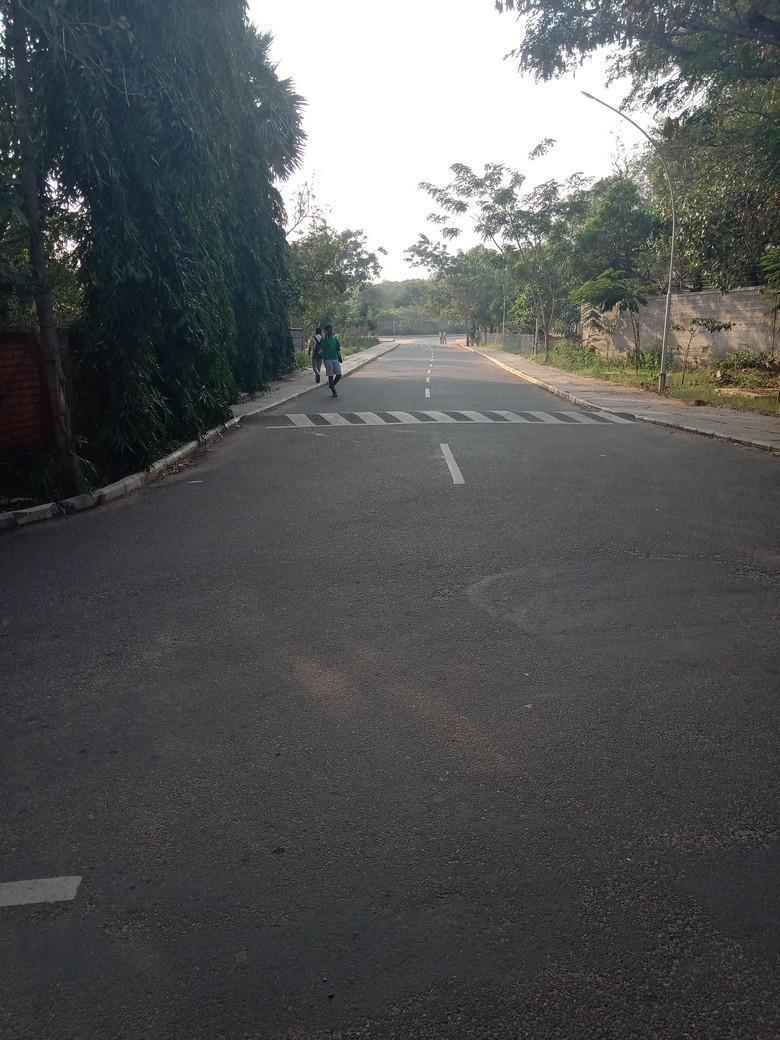speedbreaker: (249, 400, 645, 433)
